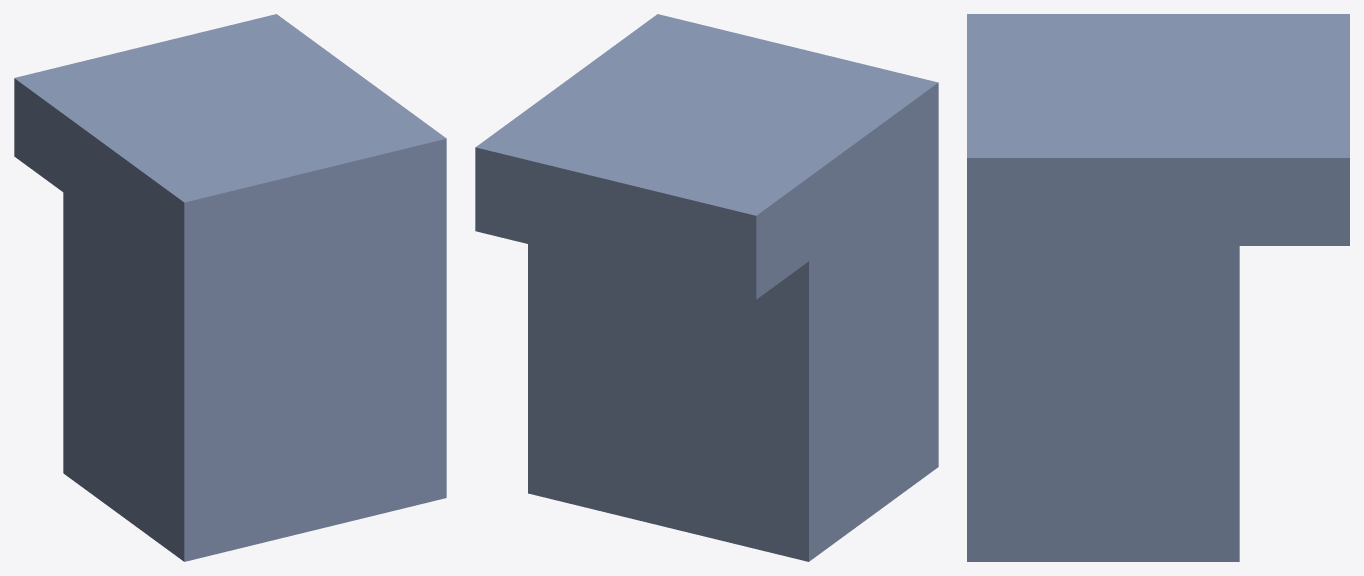
File: Counter2.fbx
3 renders of one model, left to right at view 1: azimuth 30°, elevation 25°; view 2: azimuth 150°, elevation 25°; view 3: azimuth 270°, elevation 25°, orthographic. The views are drawn at different scales.
Parts seen in each view (by area): view 1: Counter.004; view 2: Counter.004; view 3: Counter.004.
Part boxes in pixels (box(x1,y1,x2,y2)): Counter.004: box(14, 14, 446, 561); Counter.004: box(475, 14, 938, 561); Counter.004: box(967, 14, 1349, 561).
Size of the model in its own units: 64.09 by 83.86 by 72.01.
